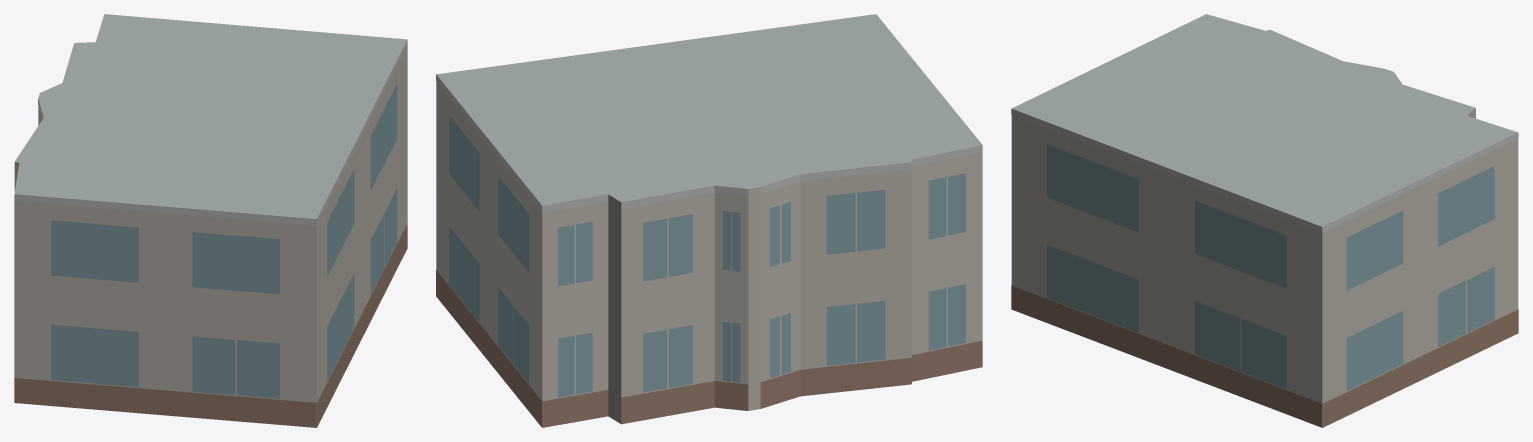
File: survey-upis-32624690.glb
The picture shows the model from 3 angles, left to right: view 1: azimuth 30°, elevation 25°; view 2: azimuth 150°, elevation 25°; view 3: azimuth 270°, elevation 25°; orthographic projection. The views are drawn at different scales.
Parts seen in each view (by area): view 1: survey-upis-32624690.tmp; view 2: survey-upis-32624690.tmp; view 3: survey-upis-32624690.tmp.
Boxes of the visible parts, left/top/right/bottom form: survey-upis-32624690.tmp: left=14, top=14, right=407, bottom=427; survey-upis-32624690.tmp: left=436, top=14, right=982, bottom=427; survey-upis-32624690.tmp: left=1011, top=14, right=1518, bottom=427.
Bounding box in the file's own units: 17.74 × 7.8 × 17.84.
